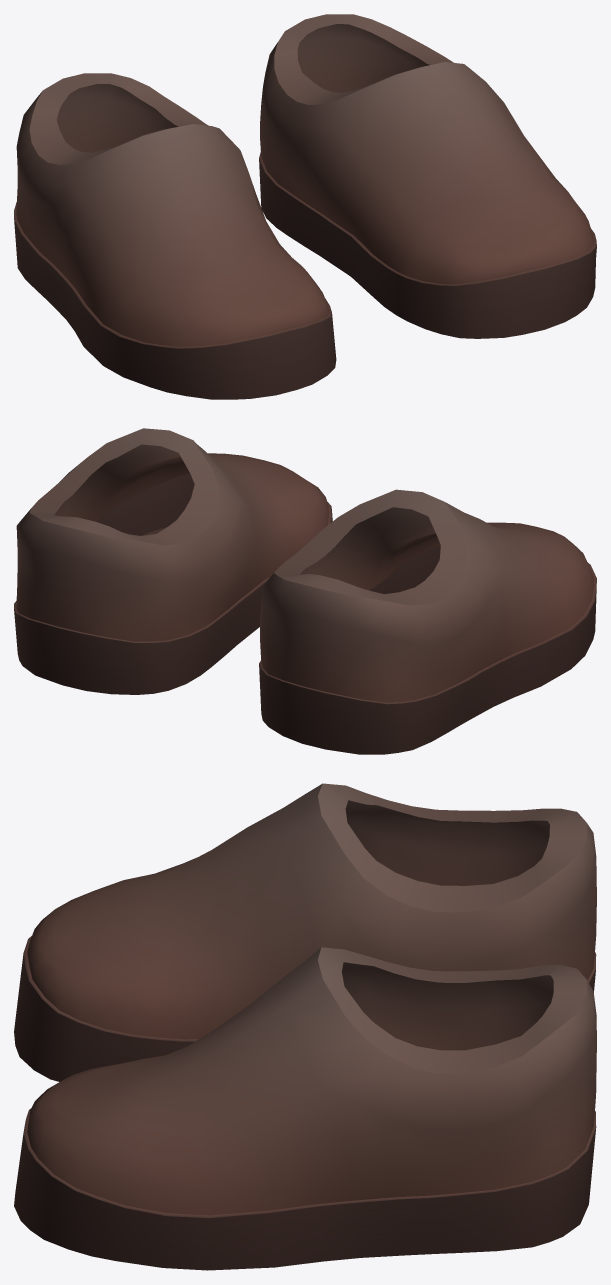
The model's file is Shoe_Sneakers_03.glb.
3 renders of one model, top to bottom at view 1: azimuth 30°, elevation 25°; view 2: azimuth 150°, elevation 25°; view 3: azimuth 270°, elevation 25°, orthographic. The views are drawn at different scales.
Visible parts, largest first — view 1: Shoe_Sneakers_03; view 2: Shoe_Sneakers_03; view 3: Shoe_Sneakers_03.
Boxes of the visible parts, x1,y1,x2,y2 form: Shoe_Sneakers_03: (14, 14, 596, 399); Shoe_Sneakers_03: (14, 428, 596, 754); Shoe_Sneakers_03: (14, 783, 596, 1270).
Bounding box in the file's own units: 0.2539 × 0.0943 × 0.2044.
Materials: 1 (1 with a texture image).
